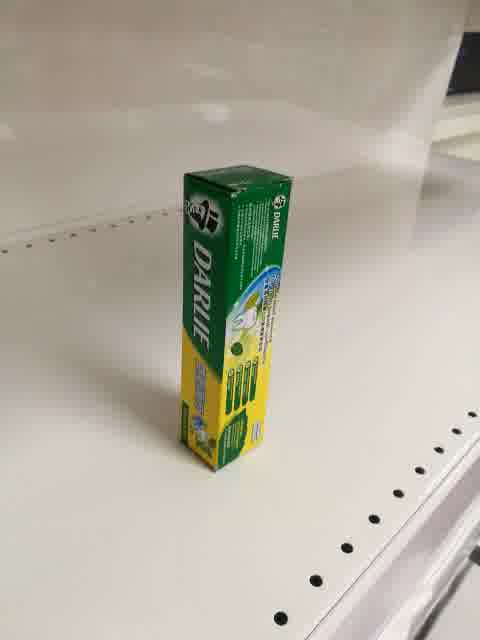toothpaste: (179, 165, 293, 472)
